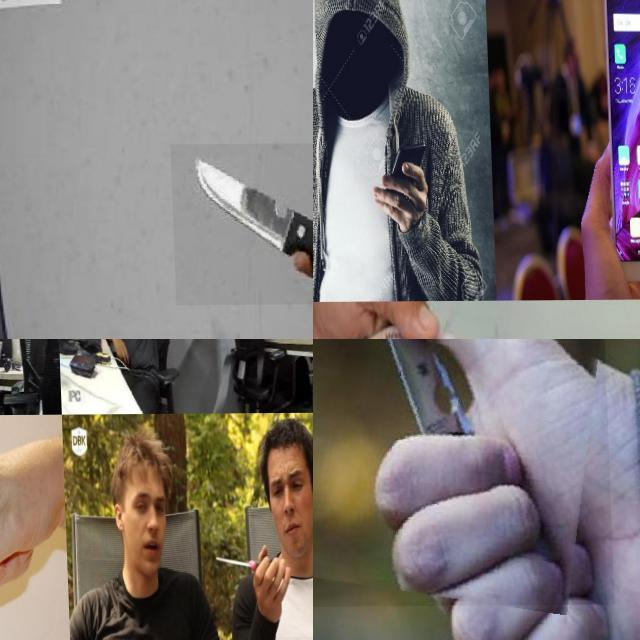-: (313, 339, 611, 607), (168, 143, 313, 305), (0, 508, 97, 640), (205, 546, 288, 593), (0, 344, 10, 380), (203, 339, 216, 363)
